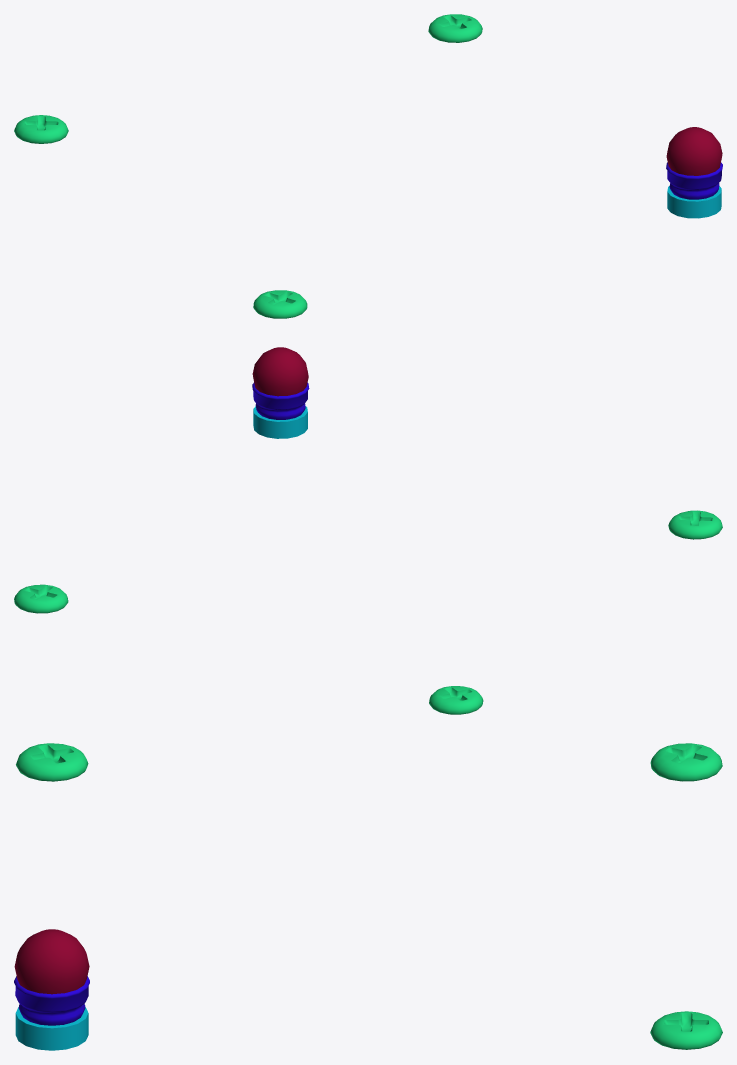
File: flag_board_top.fbx
The picture shows the model from 3 angles, top to bottom: view 1: azimuth 30°, elevation 25°; view 2: azimuth 150°, elevation 25°; view 3: azimuth 270°, elevation 25°; orthographic projection. The views are drawn at different scales.
Parts seen in each view (by area): view 1: Circle; view 2: Circle; view 3: Circle.
Boxes of the visible parts, bbox=[...] form: Circle: bbox=[14, 14, 722, 318]; Circle: bbox=[14, 347, 722, 714]; Circle: bbox=[14, 743, 722, 1050].
Bounding box in the file's own units: 114 × 18.28 × 114.
